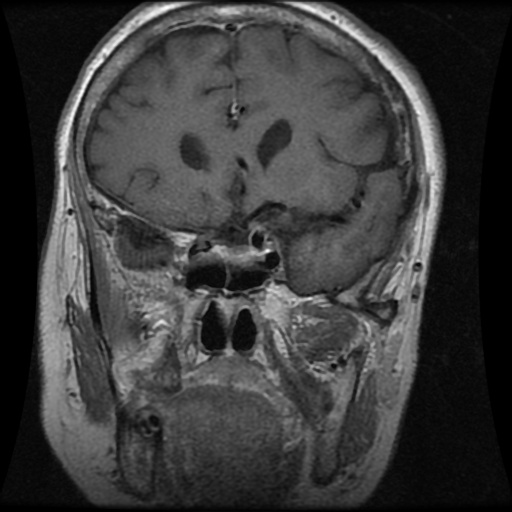pituitary: (203, 236, 277, 266)
